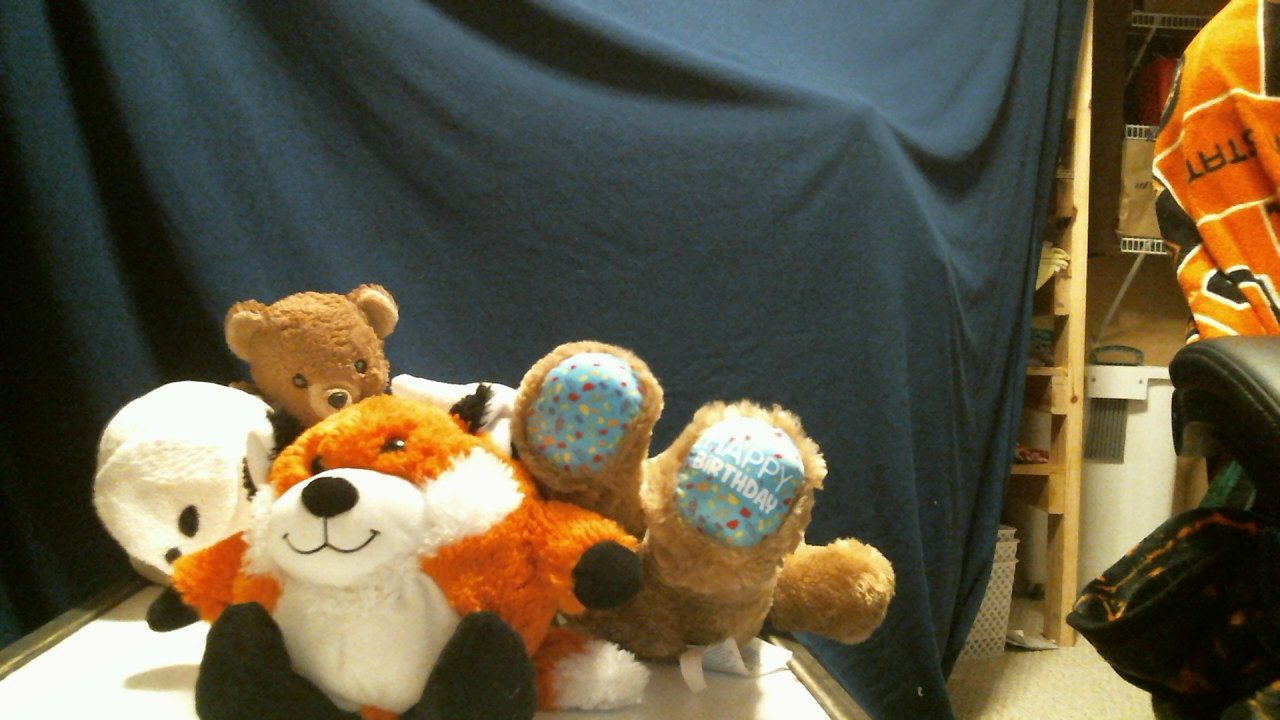Little_Mister_Bear: (291, 355, 381, 423)
